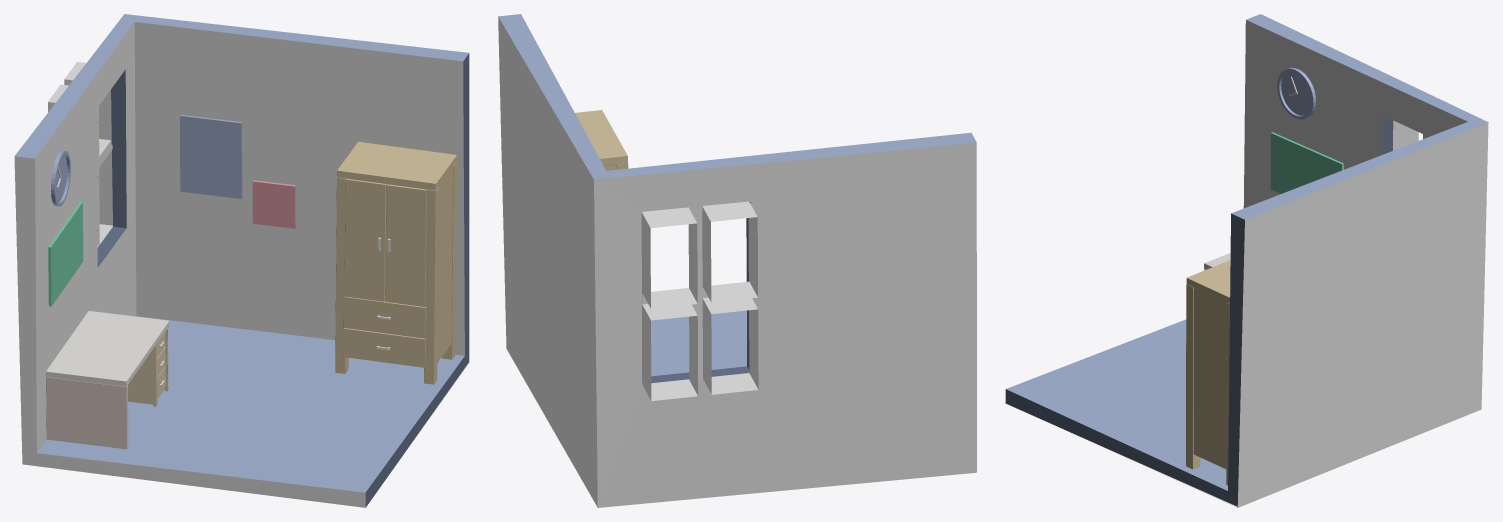
File: Final_version3.glb
3 renders of one model, left to right at view 1: azimuth 30°, elevation 25°; view 2: azimuth 150°, elevation 25°; view 3: azimuth 270°, elevation 25°, orthographic. The views are drawn at different scales.
Parts seen in each view (by area): view 1: House, Desk.001, Clock; view 2: House, Desk.001; view 3: House, Desk.001, Clock.
Boxes of the visible parts, bbox=[...] form: House: bbox=[14, 14, 469, 507]; Desk.001: bbox=[46, 141, 456, 449]; Clock: bbox=[48, 115, 295, 306]; House: bbox=[498, 14, 976, 507]; Desk.001: bbox=[575, 110, 628, 170]; House: bbox=[1005, 14, 1488, 507]; Desk.001: bbox=[1186, 253, 1230, 485]; Clock: bbox=[1270, 67, 1343, 193].
Size of the model in its own units: 20.37 by 13.37 by 20.15.
